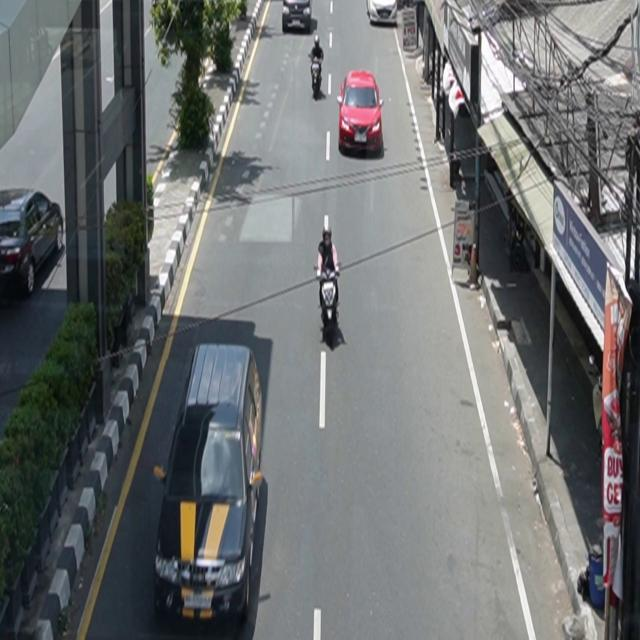car: (153, 342, 266, 627), (1, 187, 65, 299), (338, 70, 385, 156), (283, 1, 313, 34), (367, 1, 398, 26)
